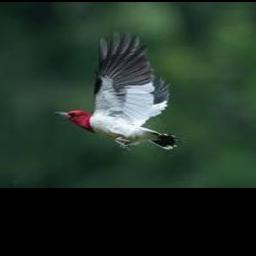Woodpecker: (54, 31, 184, 150)
